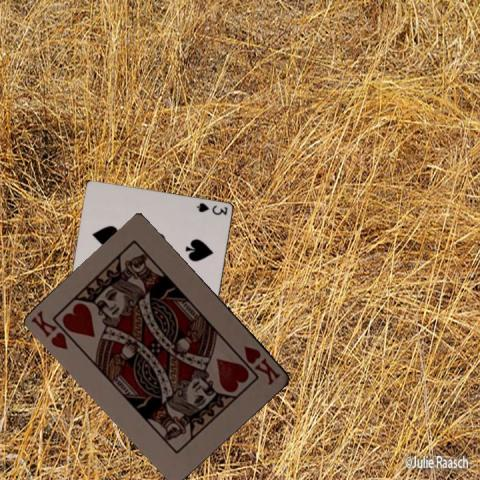3s: (193, 200, 229, 217)
Kh: (28, 308, 70, 351), (241, 343, 282, 387)
